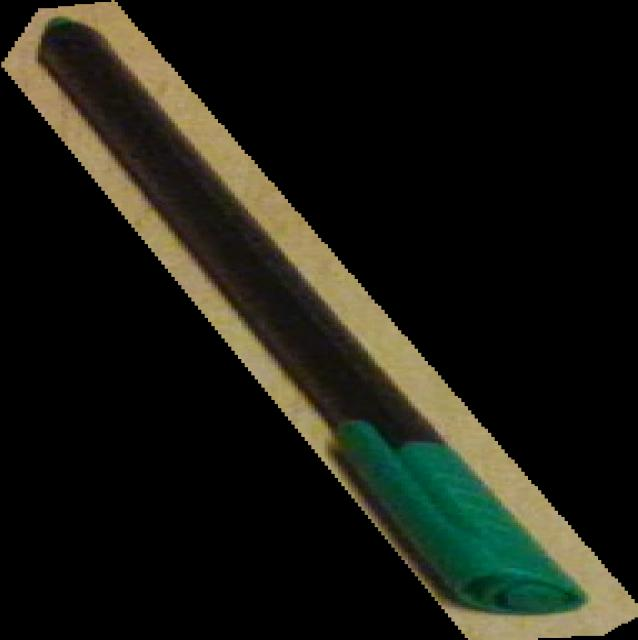green: (1, 0, 638, 640)
